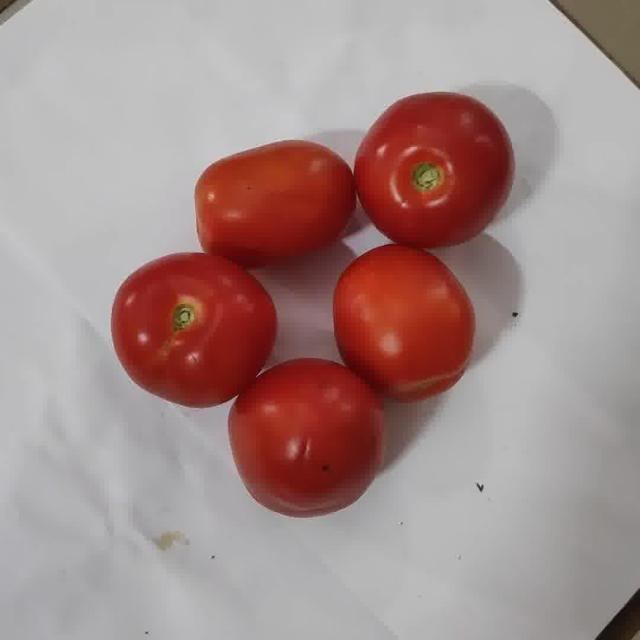Tomato: (112, 253, 275, 407), (355, 93, 513, 248), (229, 359, 383, 516), (334, 244, 473, 400), (195, 140, 356, 266)
